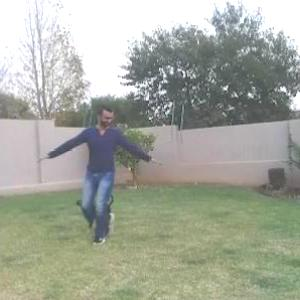land: (63, 104, 168, 230)
